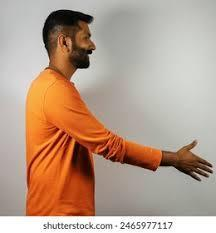Human: (26, 3, 198, 233)
